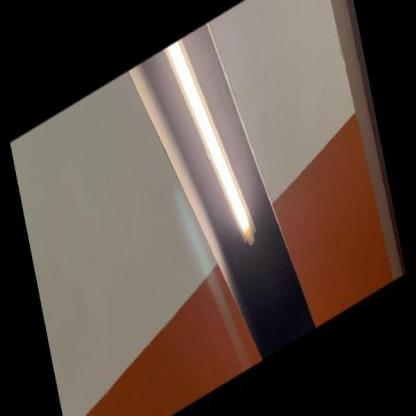light_on: (159, 15, 268, 294)
